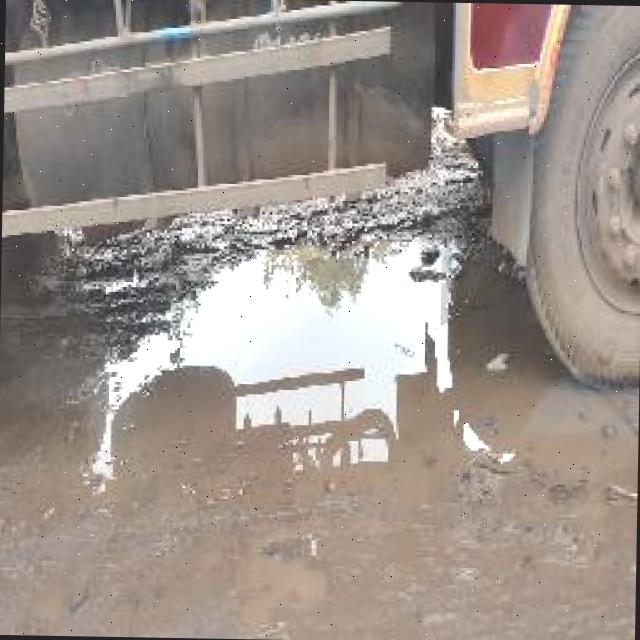stagnation: (151, 256, 573, 507)
